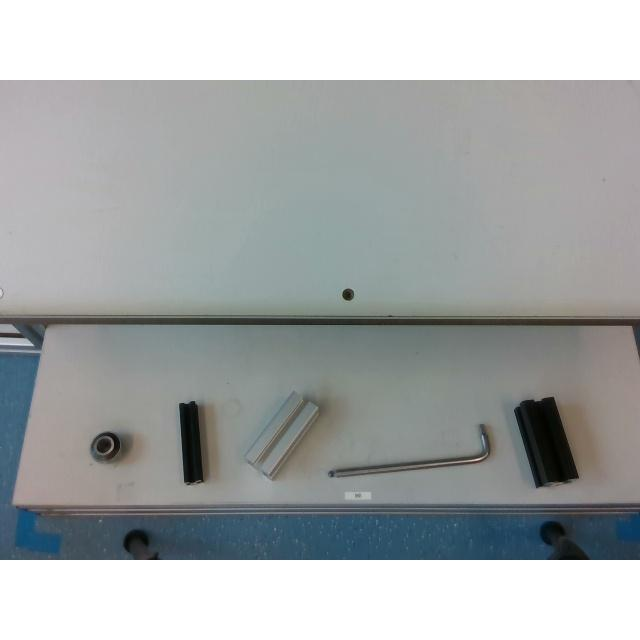AllenKey: (328, 424, 490, 476)
Bearing2: (90, 432, 120, 460)
F20_20_B: (179, 401, 203, 483)
S40_40_B: (514, 397, 578, 487)
S40_40_G: (245, 391, 319, 479)
